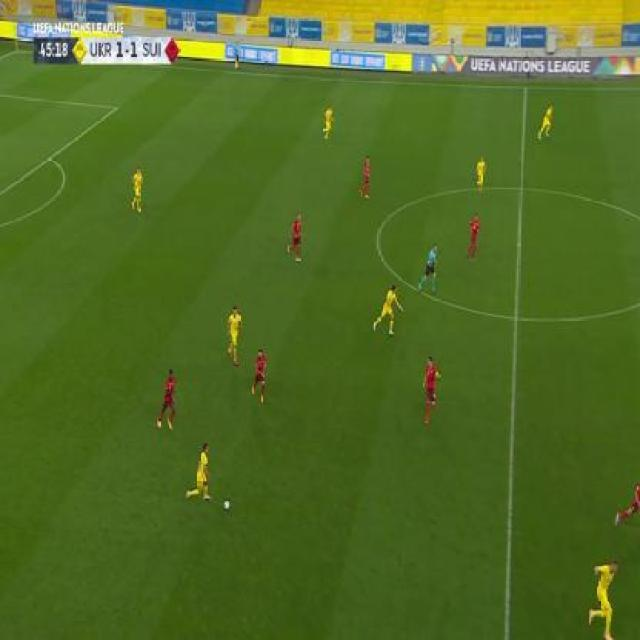ball: (223, 498, 231, 512)
player: (584, 558, 620, 640), (184, 442, 212, 508), (370, 285, 404, 338), (613, 472, 639, 531), (156, 367, 178, 432), (416, 242, 441, 296), (422, 357, 441, 428), (227, 305, 244, 367), (251, 349, 267, 406), (287, 211, 303, 264), (536, 101, 556, 141), (358, 155, 374, 203), (466, 215, 482, 261), (131, 167, 144, 215), (322, 103, 336, 142), (476, 155, 487, 194), (233, 39, 241, 72)
